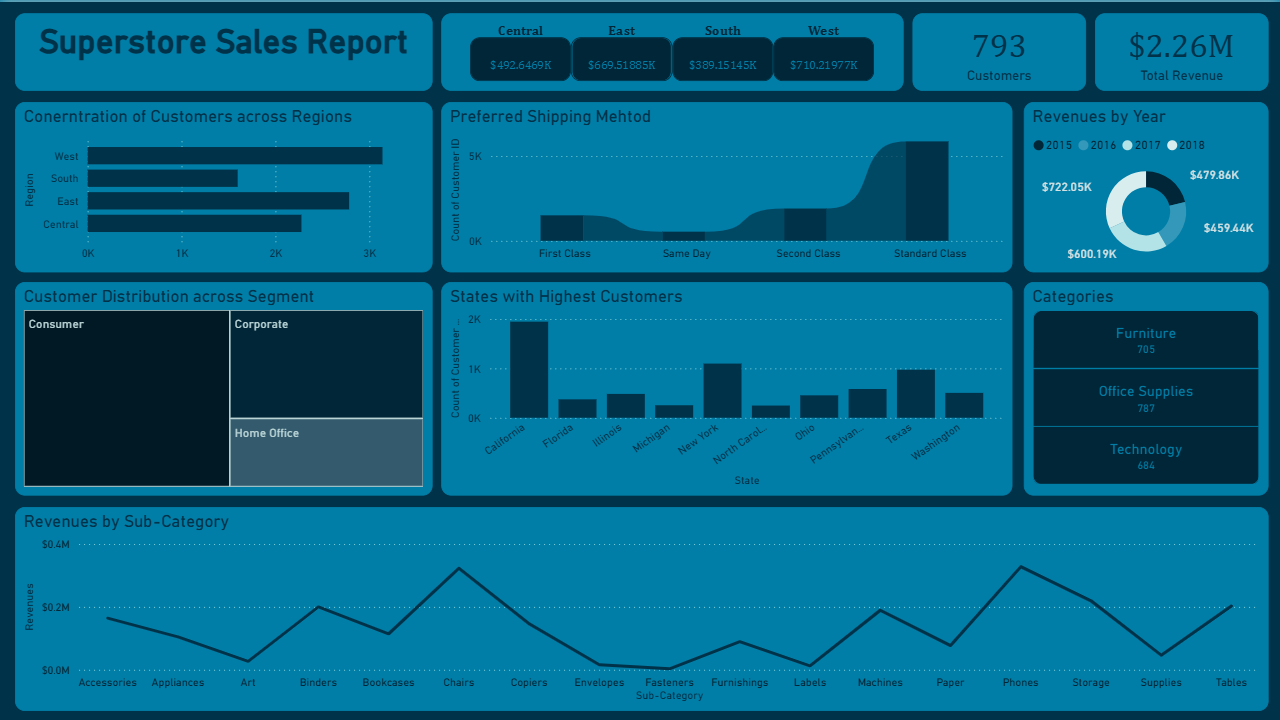

Layout of this report page (visuals, bound fields, positions):
{"tool":"powerbi","page":{"name":"Page 1","canvas":[1280,720],"ordinal":0},"visuals":[{"type":"card","fields":{"Values":["Sum(Super Store.Sales)"]},"box":[1091.2,0,188.8,88.8],"z":0},{"type":"clusteredBarChart","title":"Conerntration of Customers across Regions","fields":{"Category":["Super Store.Region"],"Y":["CountNonNull(Super Store.Customer ID)"]},"box":[0,76.2,417.5,215],"z":1000},{"type":"textbox","box":[0,0,417.5,76.2],"z":2000},{"type":"donutChart","title":"Revenues by Year","fields":{"Category":["Super Store.Order Date.Variation.Date Hierarchy.Year"],"Y":["Sum(Super Store.Sales)"]},"box":[1035,88.8,245,190],"z":3000},{"type":"treemap","title":"Customer Distribution across Segment","fields":{"Group":["Super Store.Segment"],"Values":["Count(Super Store.Customer ID)"]},"box":[0,291.2,443.8,213.8],"z":4000},{"type":"advancedSlicerVisual","title":"Categories","fields":{"Values":["Super Store.Category"]},"box":[1035,278.8,245,226.2],"z":5000},{"type":"card","fields":{"Values":["Count(Super Store.Customer ID)"]},"box":[893.8,0,197.5,88.8],"z":6000},{"type":"lineChart","title":"Revenues by Sub-Category","fields":{"Category":["Super Store.Sub-Category"],"Y":["Sum(Super Store.Sales)"]},"box":[0,505,1280,215],"z":7000},{"type":"lineStackedColumnComboChart","title":"States with Highest Customers","fields":{"Category":["Super Store.State"],"Y":["CountNonNull(Super Store.Customer ID)"]},"box":[443.8,270,591.2,235],"z":8000},{"type":"ribbonChart","title":"Preferred Shipping Mehtod","fields":{"Category":["Super Store.Ship Mode"],"Y":["CountNonNull(Super Store.Customer ID)"]},"box":[417.5,88.8,617.5,181.2],"z":9000},{"type":"cardVisual","fields":{"Rows":["Super Store.Region"],"Data":["Sum(Super Store.Sales)"]},"box":[417.5,0,476.2,88.8],"z":10000}]}

Visuals, with their boxes in screenshot pixels (x1, y1, x2, y2), scaled from the page's 1280x720 canvas onto the 1280x720 screenshot:
card - Sum(Super Store.Sales): l=1091, t=0, r=1279, b=89
"Conerntration of Customers across Regions" clusteredBarChart: l=0, t=76, r=418, b=291
textbox: l=0, t=0, r=418, b=76
"Revenues by Year" donutChart: l=1035, t=89, r=1279, b=279
"Customer Distribution across Segment" treemap: l=0, t=291, r=444, b=505
"Categories" advancedSlicerVisual: l=1035, t=279, r=1279, b=505
card - Count(Super Store.Customer ID): l=894, t=0, r=1091, b=89
"Revenues by Sub-Category" lineChart: l=0, t=505, r=1279, b=719
"States with Highest Customers" lineStackedColumnComboChart: l=444, t=270, r=1035, b=505
"Preferred Shipping Mehtod" ribbonChart: l=418, t=89, r=1035, b=270
cardVisual - Super Store.Region x Sum(Super Store.Sales): l=418, t=0, r=894, b=89
